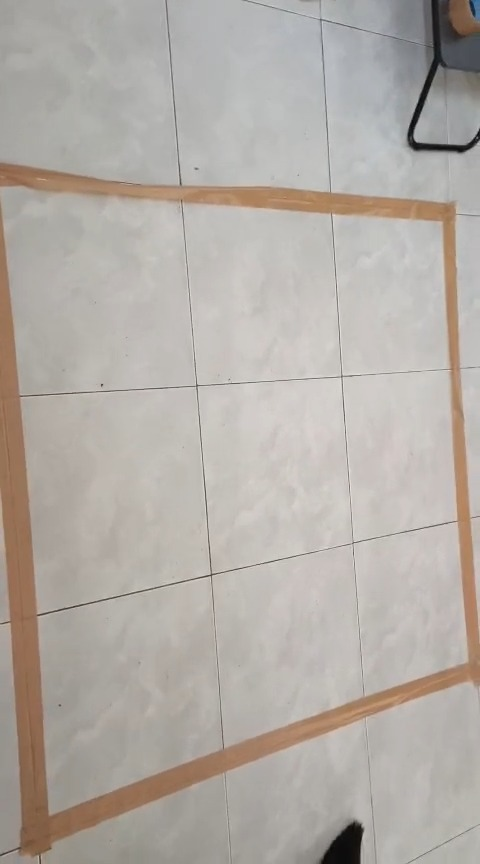floor marking: (0, 164, 479, 853)
